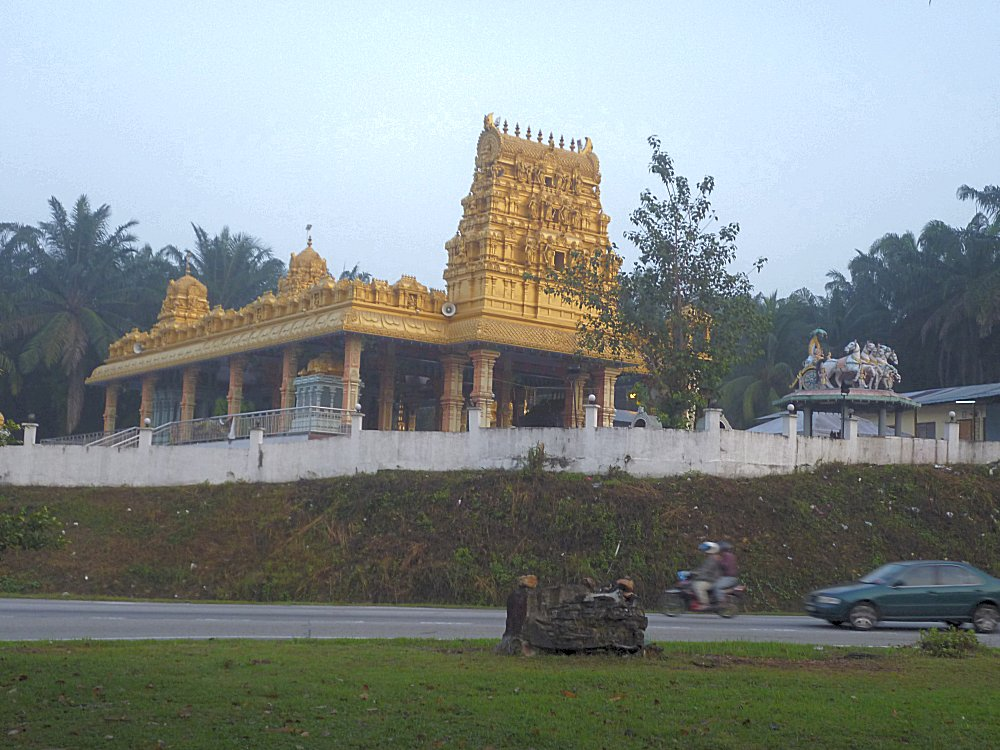Hindu Temple: (74, 116, 629, 420)
